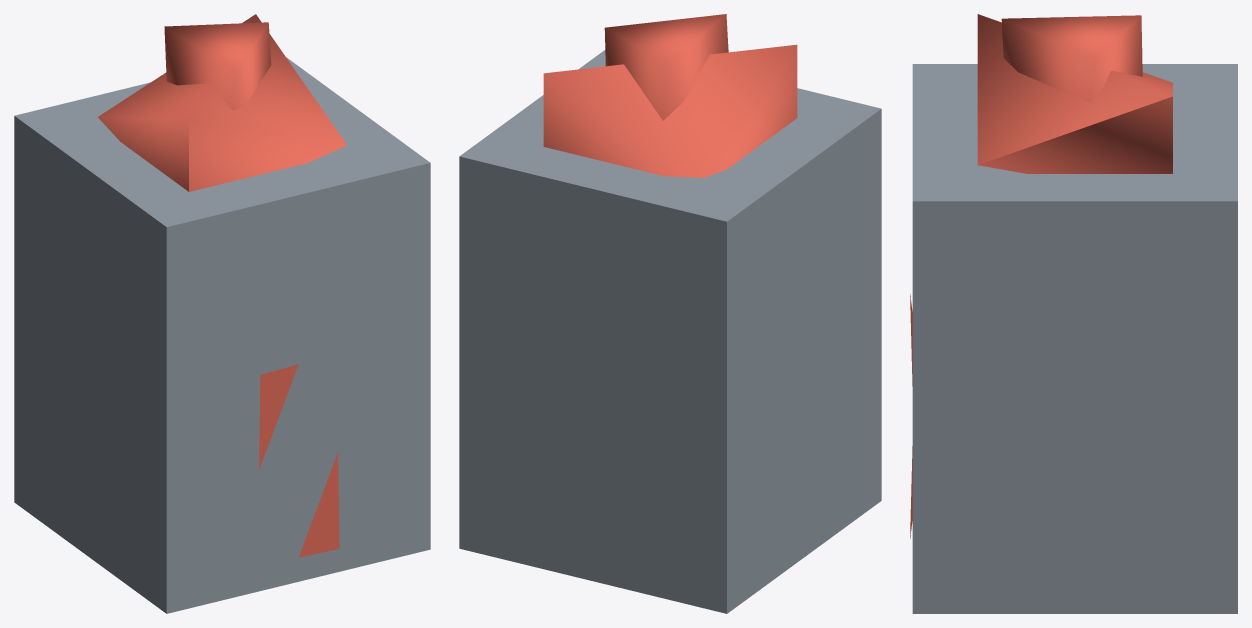
The model's file is SU_Radar_LOD2.glb.
3 views of the same model, side by side, from view 1: azimuth 30°, elevation 25°; view 2: azimuth 150°, elevation 25°; view 3: azimuth 270°, elevation 25° (orthographic). The views are drawn at different scales.
Parts seen in each view (by area): view 1: EntranceGate; view 2: EntranceGate; view 3: EntranceGate.
Boxes of the visible parts, x1,y1,x2,y2 form: EntranceGate: (14,14,430,613); EntranceGate: (459,14,881,613); EntranceGate: (910,14,1237,613).
Size of the model in its own units: 400 by 700 by 403.
